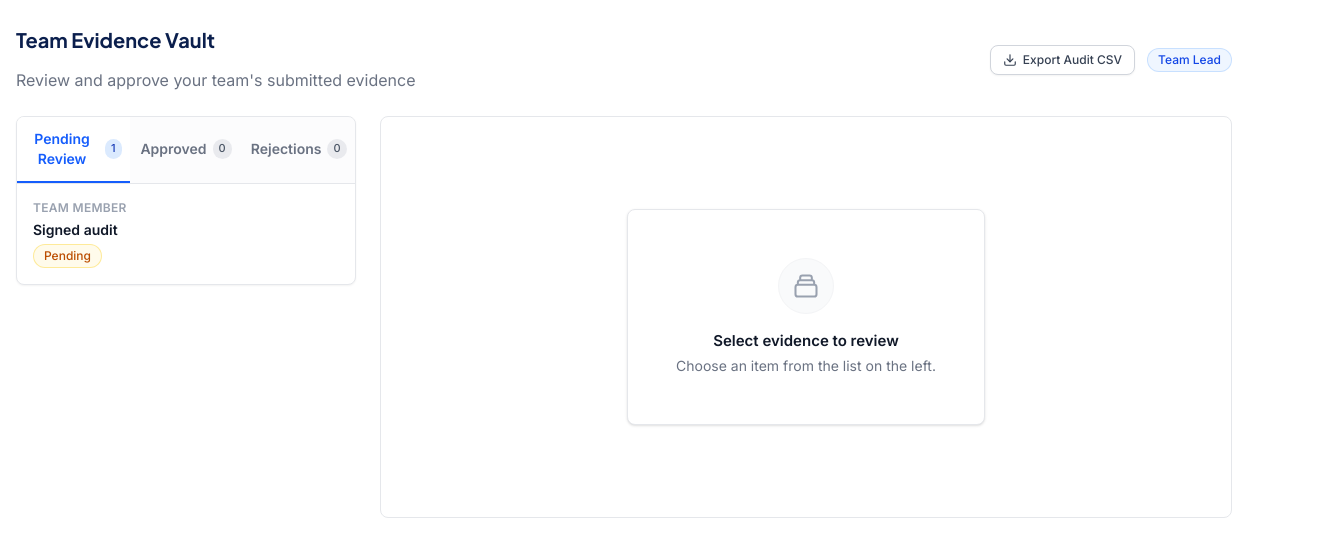
Test: TL Reviews › exports the CSV through the evidence thunk and keeps the file out of the store
Click the button "Export Audit CSV".
click(1062, 60)  # box x1=990 y1=45 x2=1135 y2=75
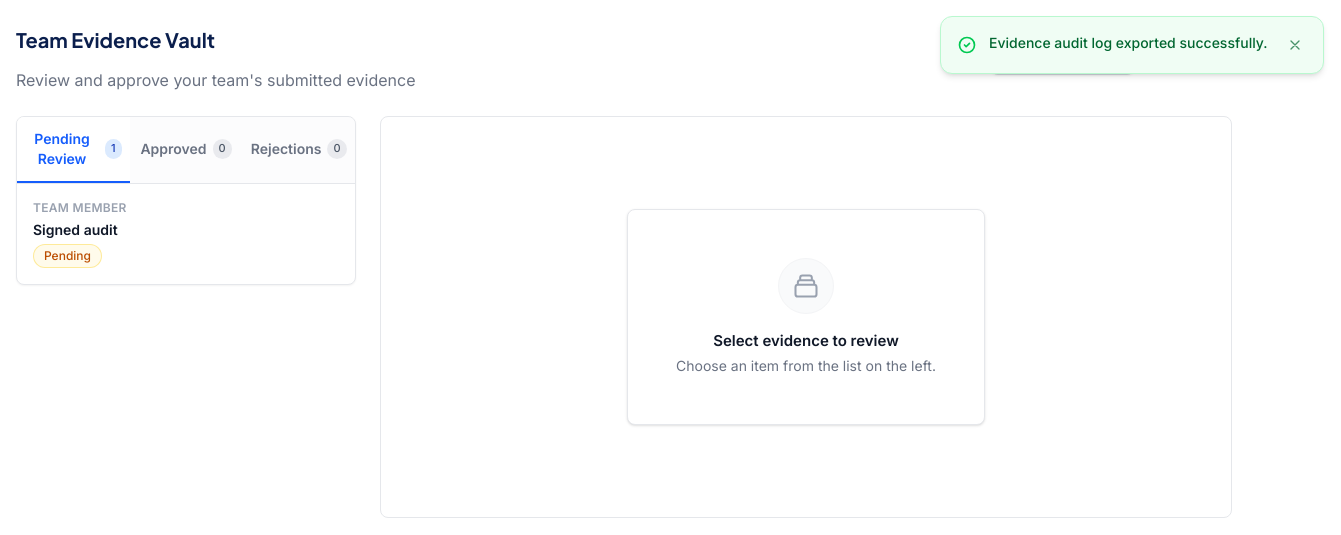
expect the text "Evidence audit log exported successfully." is shown: met, box x1=989 y1=33 x2=1271 y2=52
